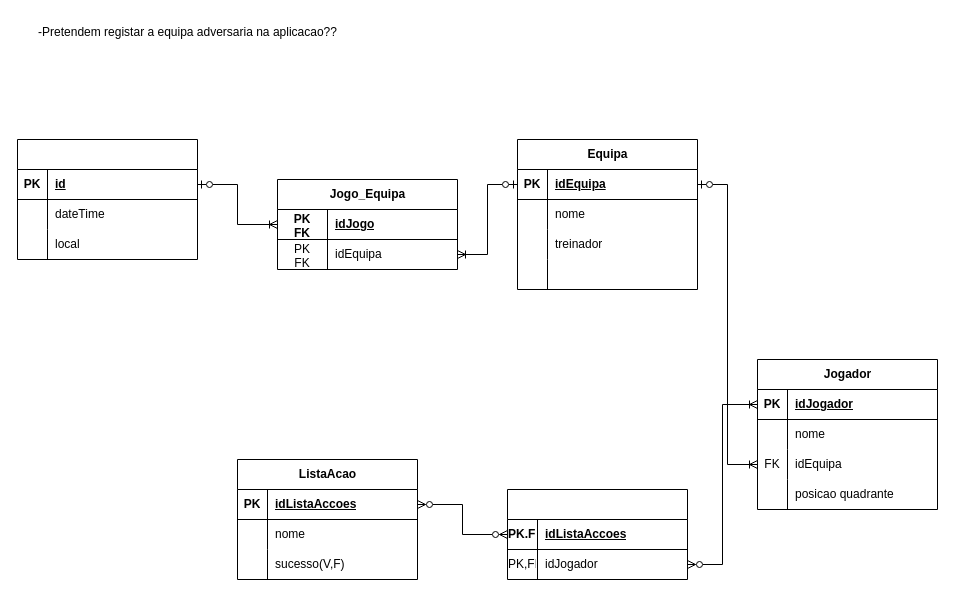
Some shapes in this 955 by 597 pixel diagram are drawn without their labels. The box of each missing label's shape, as (x1, y1, x2, y2) in pixels:
Jogo: (16, 138, 198, 260)
ListaAcao_Jogador: (506, 488, 688, 580)
